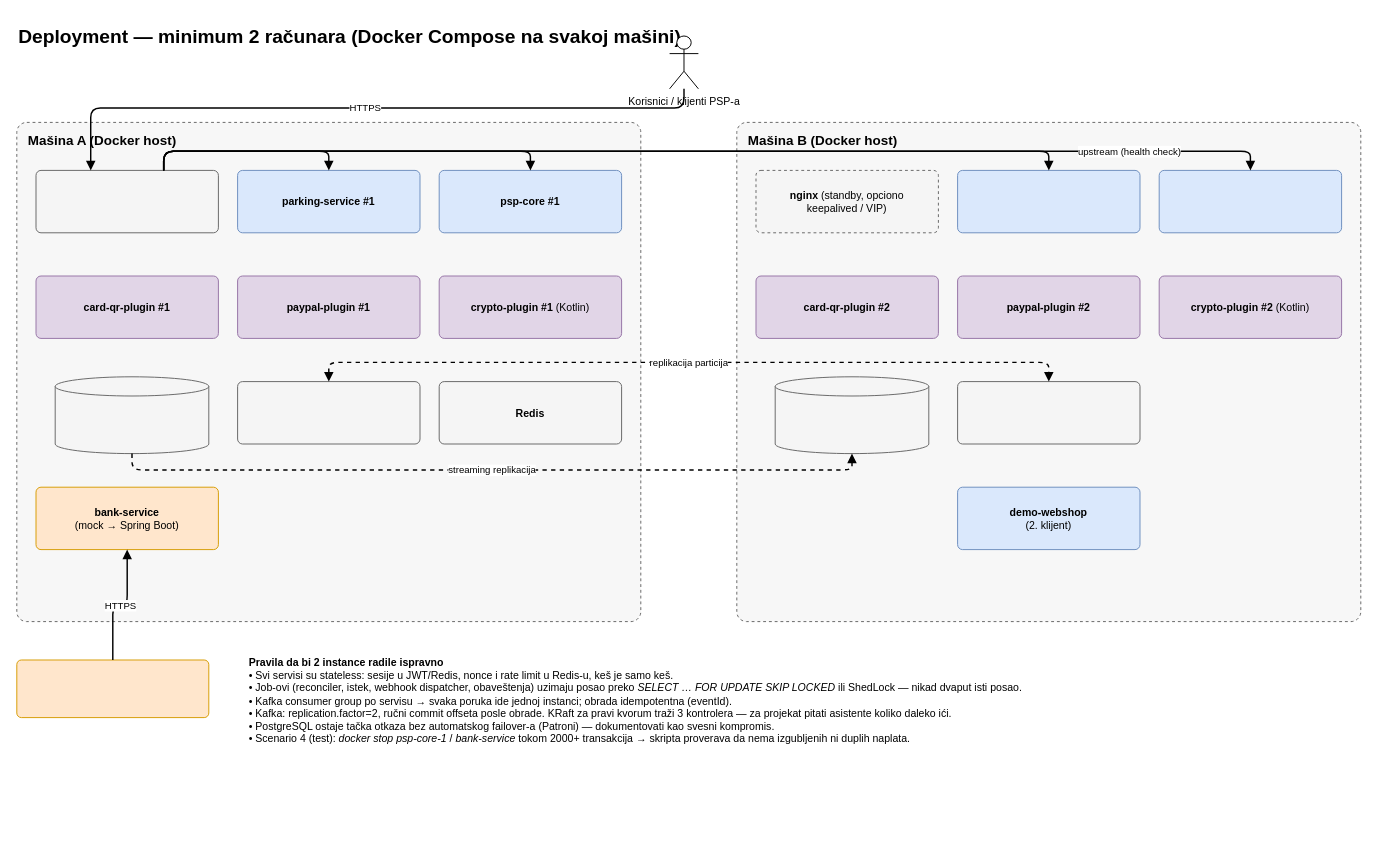
Image size: 1378x858. Some labels were removed from this diagram. Here are the shapes that lost their labels. From the top down, the centre of each, then its label:
At [126,201]: "nginx (aktivan) LB + statički frontend-i".
At [1048,201]: "parking-service #2".
At [1250,201]: "psp-core #2".
At [131,415]: "PostgreSQL primary (baza po servisu)".
At [328,412]: "Kafka broker 1".
At [851,415]: "PostgreSQL replica (streaming)".
At [1048,412]: "Kafka broker 2".
At [112,688]: "Telefon mobilna banka (Android)".
